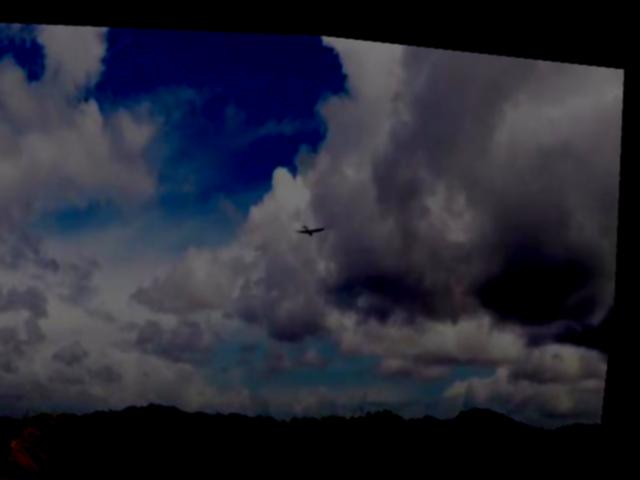iha: (296, 204, 332, 234)
